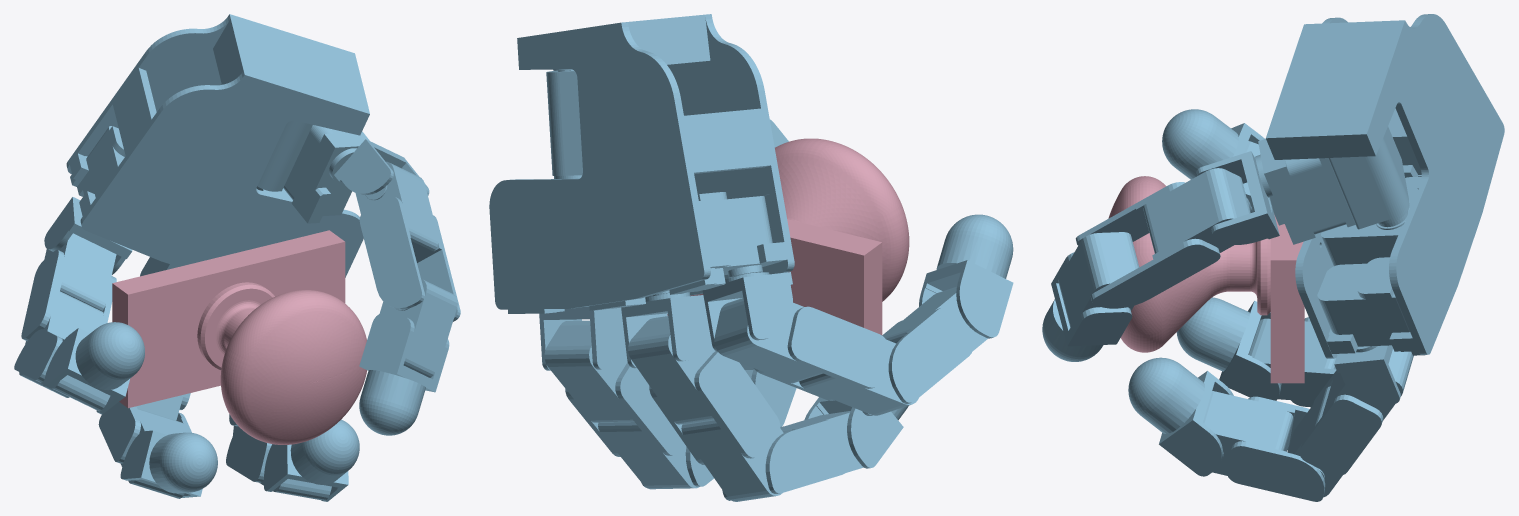
3 renders of one model, left to right at view 1: azimuth 30°, elevation 25°; view 2: azimuth 150°, elevation 25°; view 3: azimuth 270°, elevation 25°, orthographic. The views are drawn at different scales.
Visible parts, largest first — view 1: world, door_knob.stl; view 2: world, door_knob.stl; view 3: world, door_knob.stl.
Boxes of the visible parts, left/top/right/bottom form: world: left=14, top=14, right=460, bottom=501; door_knob.stl: left=112, top=230, right=366, bottom=444; world: left=489, top=14, right=1013, bottom=501; door_knob.stl: left=667, top=138, right=909, bottom=335; world: left=1042, top=14, right=1504, bottom=501; door_knob.stl: left=1108, top=176, right=1304, bottom=383.
Size of the model in its own units: 0.1715 by 0.1919 by 0.1701.
